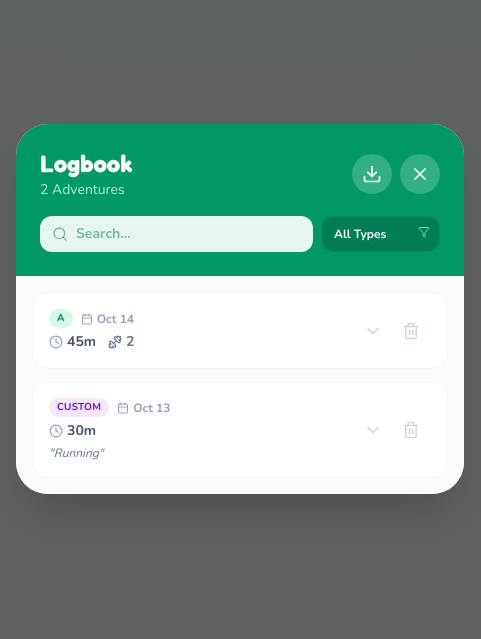
it: HistoryModal Detailed View › toggles details when a log row is clicked
Click to expand
Click the element with test id "log-item-log1".
click(240, 330)  # box [32, 292, 448, 369]
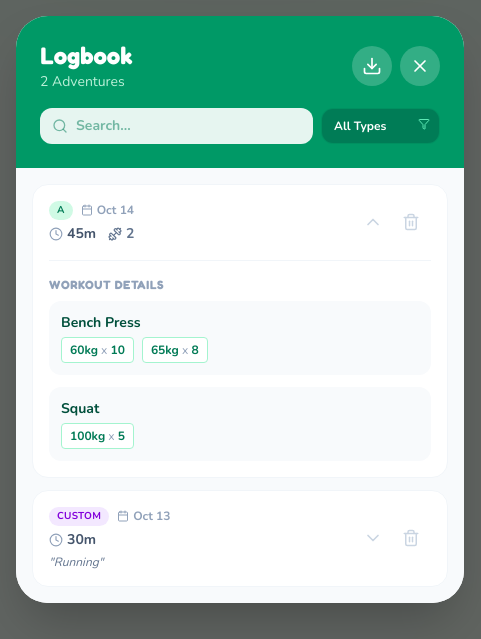
Expected: the element with test id "log-details-log1" is shown, [49, 260, 431, 460]
Expected: the text "Bench Press" is shown, [61, 312, 141, 332]
Expected: the text "Squat" is shown, [61, 398, 99, 418]
Click to collapse
Click the element with test id "log-item-log1".
click(240, 330)  # box [32, 184, 448, 478]
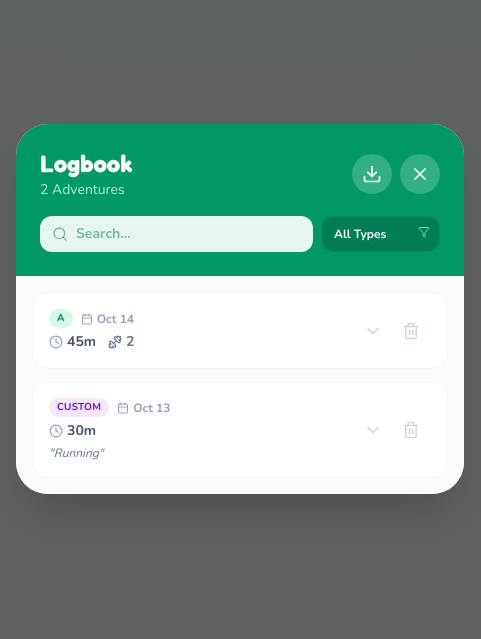
Expected: the element with test id "log-details-log1" is gone
